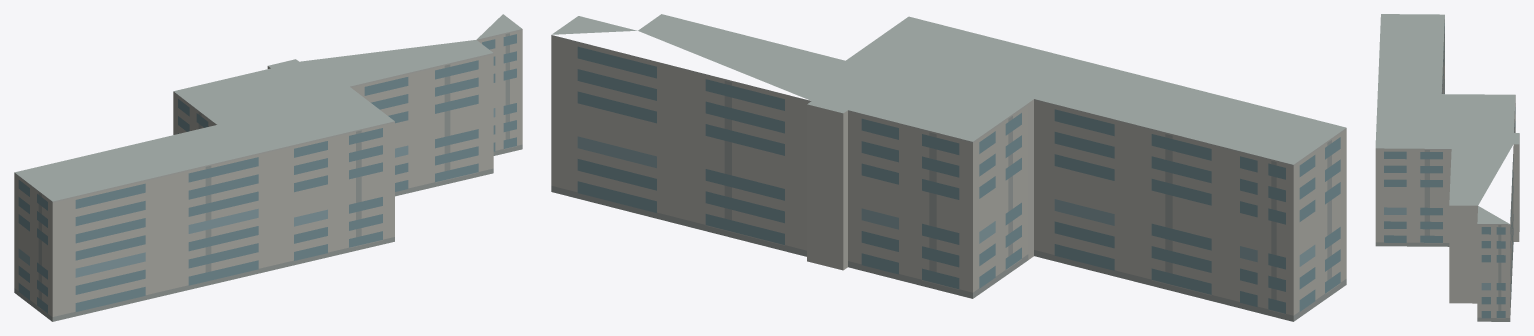
Rendered from survey-upis-32936429.glb.
3 views of the same model, side by side, from view 1: azimuth 30°, elevation 25°; view 2: azimuth 150°, elevation 25°; view 3: azimuth 270°, elevation 25° (orthographic). The views are drawn at different scales.
Parts seen in each view (by area): view 1: survey-upis-32936429.tmp; view 2: survey-upis-32936429.tmp; view 3: survey-upis-32936429.tmp.
Part boxes in pixels (left/top/right/bottom): survey-upis-32936429.tmp: left=14, top=14, right=522, bottom=321; survey-upis-32936429.tmp: left=551, top=14, right=1346, bottom=321; survey-upis-32936429.tmp: left=1375, top=14, right=1519, bottom=321.
Size of the model in its own units: 110 by 23.79 by 31.76.
